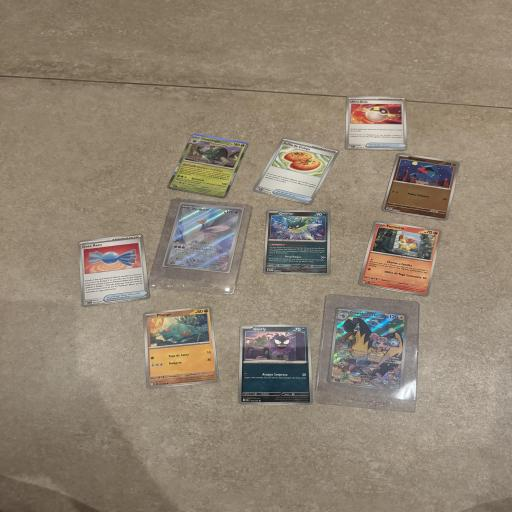card: (328, 306, 412, 392), (252, 132, 340, 209), (357, 218, 442, 297), (139, 306, 219, 389), (238, 324, 313, 405), (166, 131, 249, 201), (74, 234, 151, 307), (164, 202, 242, 273), (381, 151, 460, 221), (262, 209, 332, 275), (345, 96, 409, 151)
